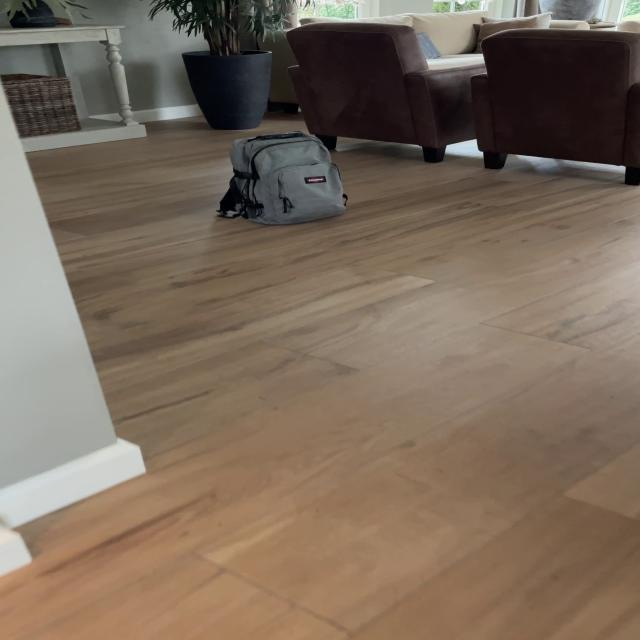backpack: (212, 127, 354, 229)
